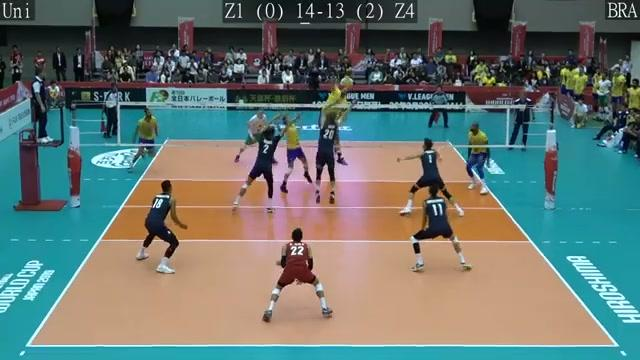ball: (341, 77, 358, 88)
